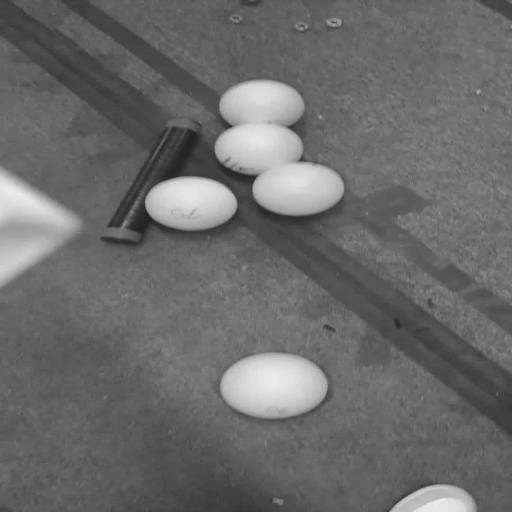fuel: (220, 353, 328, 419), (145, 176, 237, 231), (252, 162, 344, 216), (214, 124, 303, 175), (219, 80, 305, 126)
